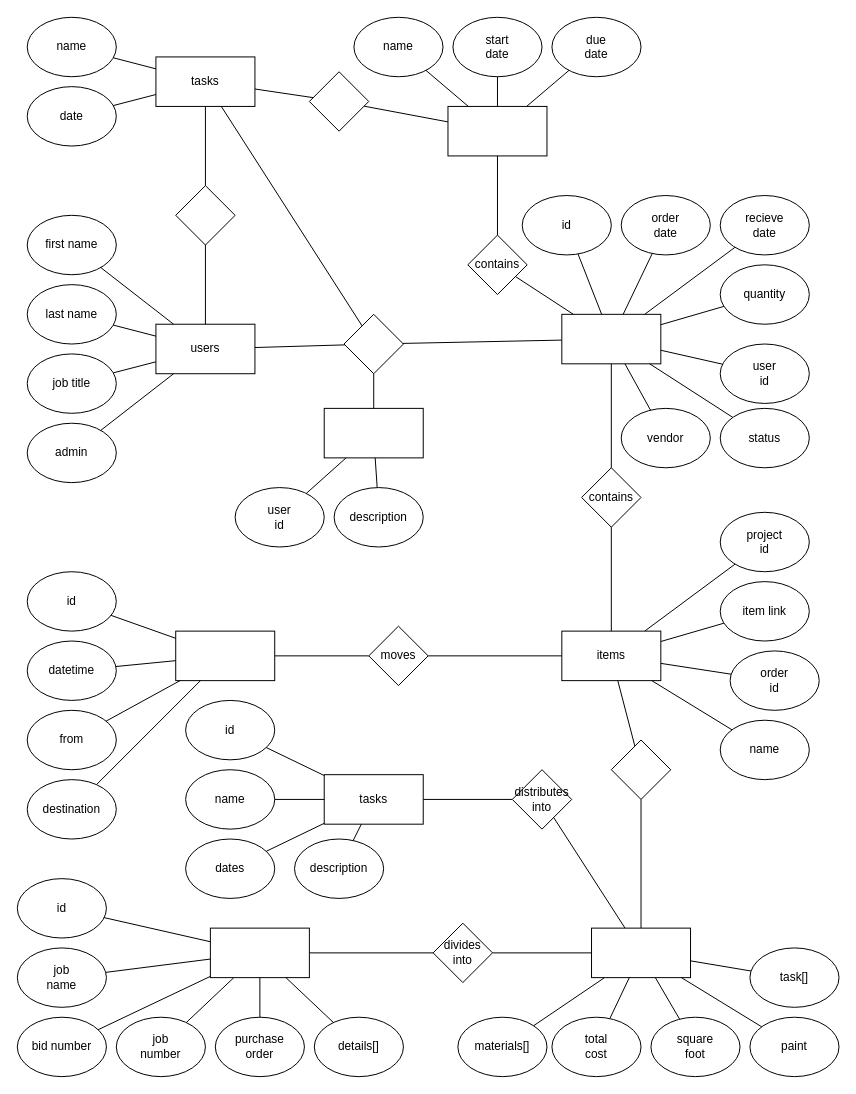
The diagram is 856 pixels wide and 1094 high, and some of its shapes have lost their labels. The centre of each missing label's shape, as x and y in pixels:
"assigned" goes at pixel 205 215.
"comment" goes at pixel 373 432.
"consumes" goes at pixel 640 769.
"Details" goes at pixel 641 952.
"Estimates" goes at pixel 259 952.
"has" goes at pixel 338 101.
"logistics" goes at pixel 225 655.
"make" goes at pixel 373 343.
"orders" goes at pixel 611 338.
"projects" goes at pixel 497 130.
